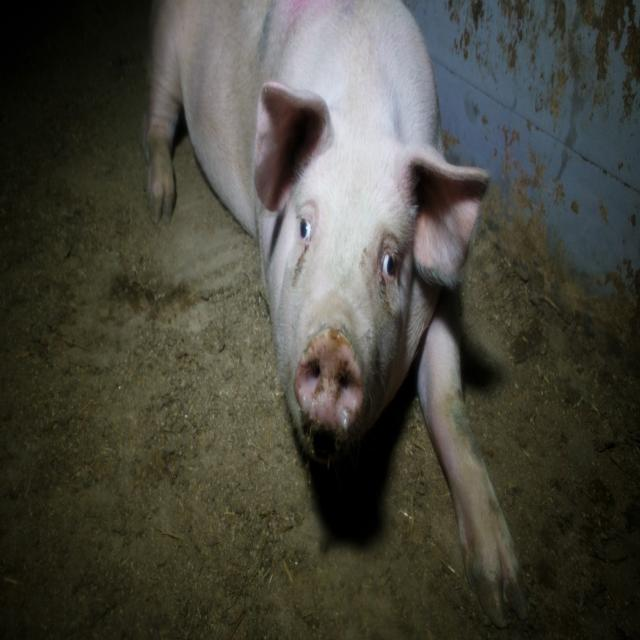pig: (146, 0, 528, 625)
